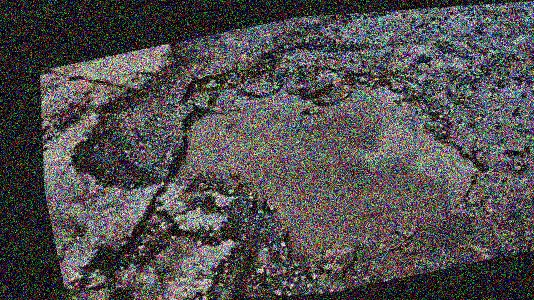pothole: (130, 7, 525, 300)
